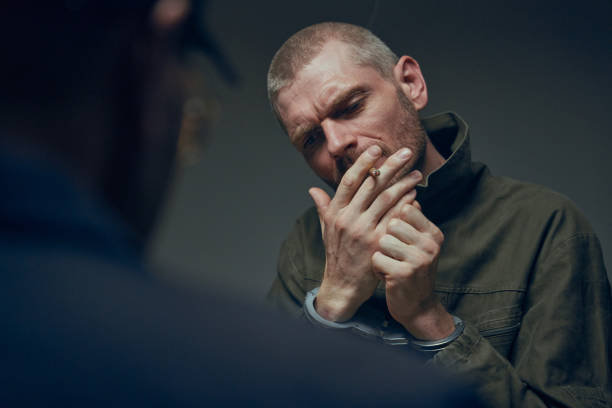cigarette: (369, 167, 382, 180)
